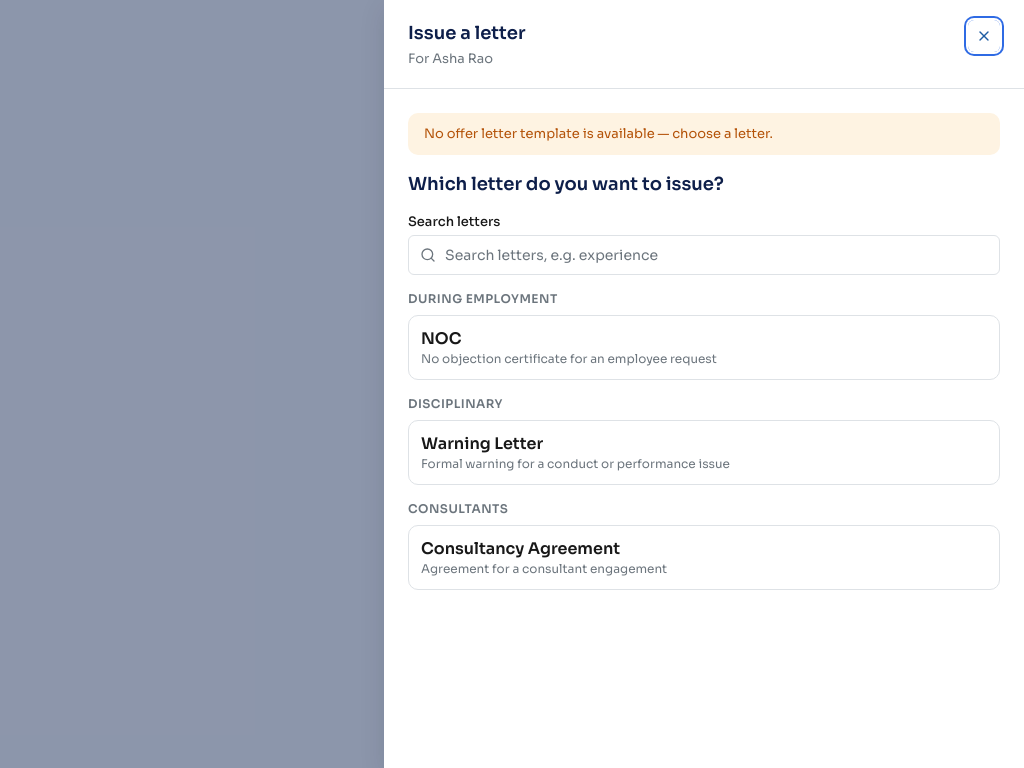
Test: choosing a letter › falls back to the chooser with a notice when the requested template key does not exist
The width and height of the screenshot is (1024, 768).
expect the text "No offer letter template is available — choose a letter." is shown: met, box [408,113,1000,155]
expect the heading "Which letter do you want to issue?" is shown: met, box [408,173,724,195]
Click the button "Warning Letter".
click(482, 444)  # box [408,420,1000,485]
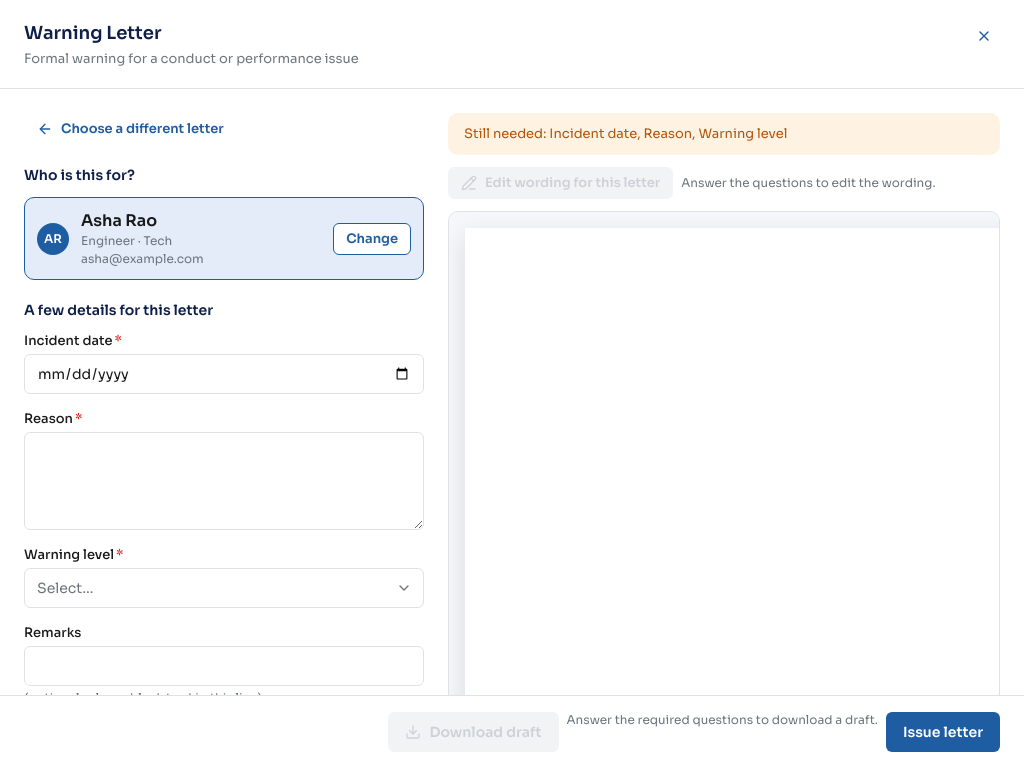
expect the date field labelled "Incident date *" is shown: met, box [24,354,424,394]
Click the button "Choose a different letter".
click(130, 129)  # box [24,113,237,145]
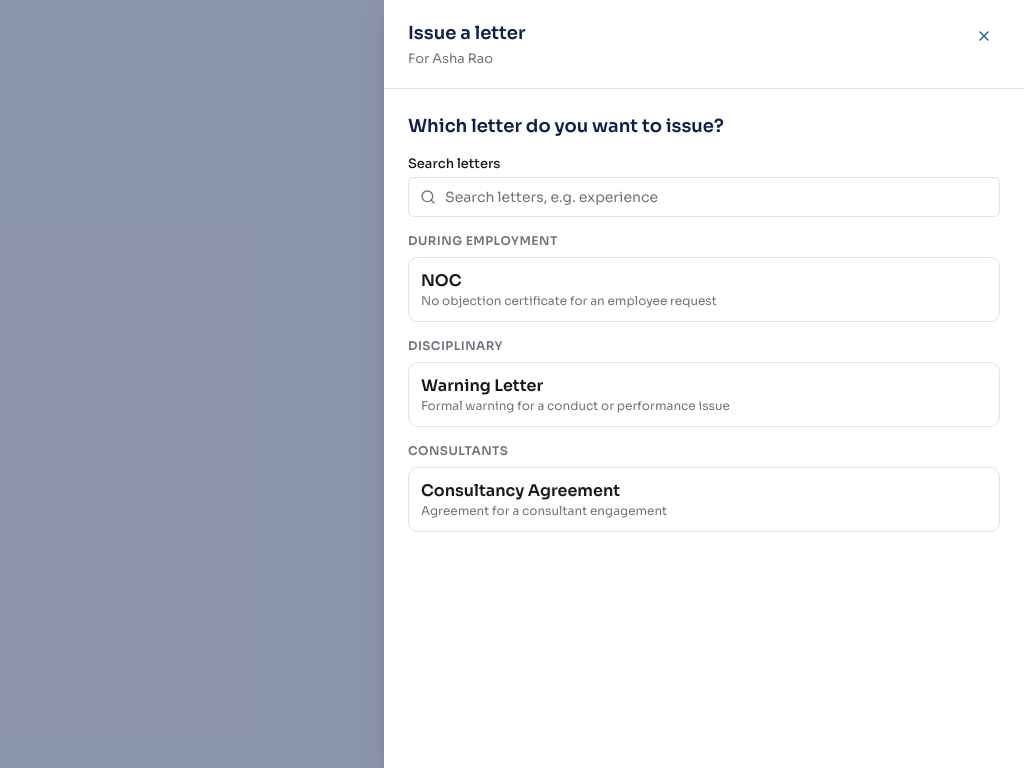
expect the text "No offer letter template" is not shown: met
expect the heading "Which letter do you want to issue?" is shown: met, box [408,115,724,137]
